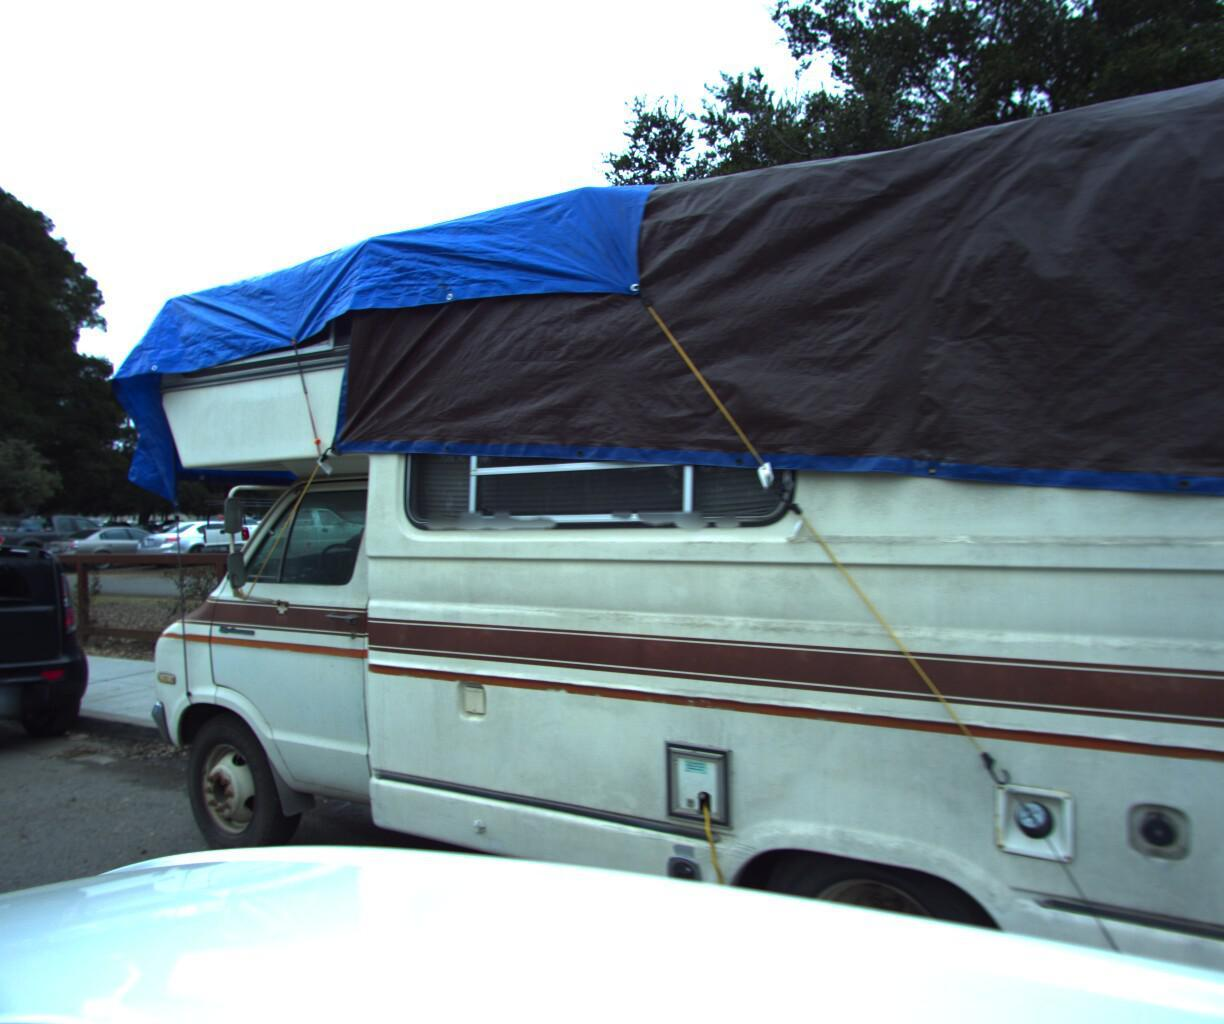car: (0, 524, 115, 804), (0, 506, 136, 571), (0, 516, 57, 573)
other_vehicle: (50, 0, 1224, 1024)
